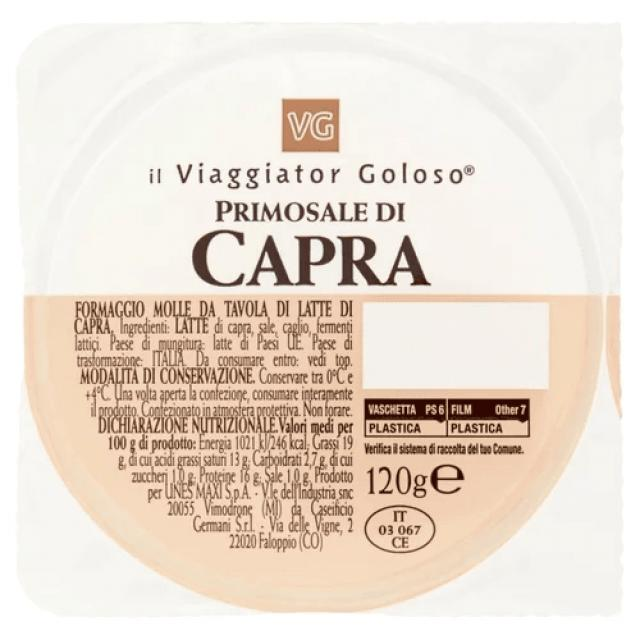Cheese: (17, 22, 621, 617)
